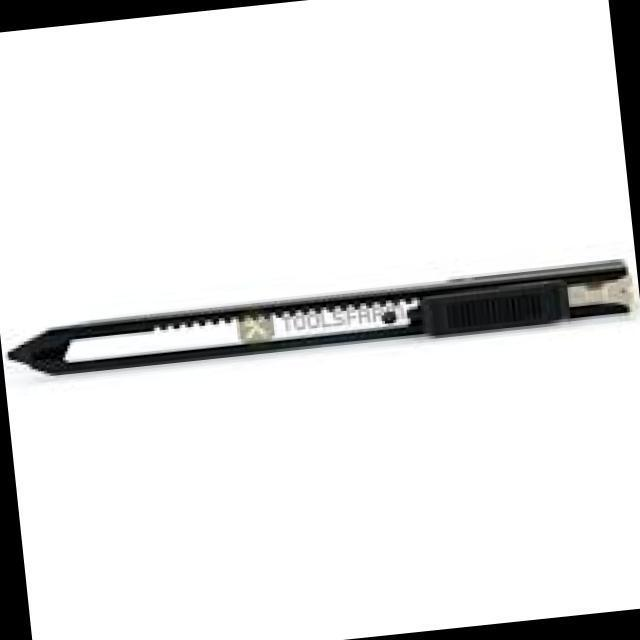cutter: (4, 242, 634, 378)
